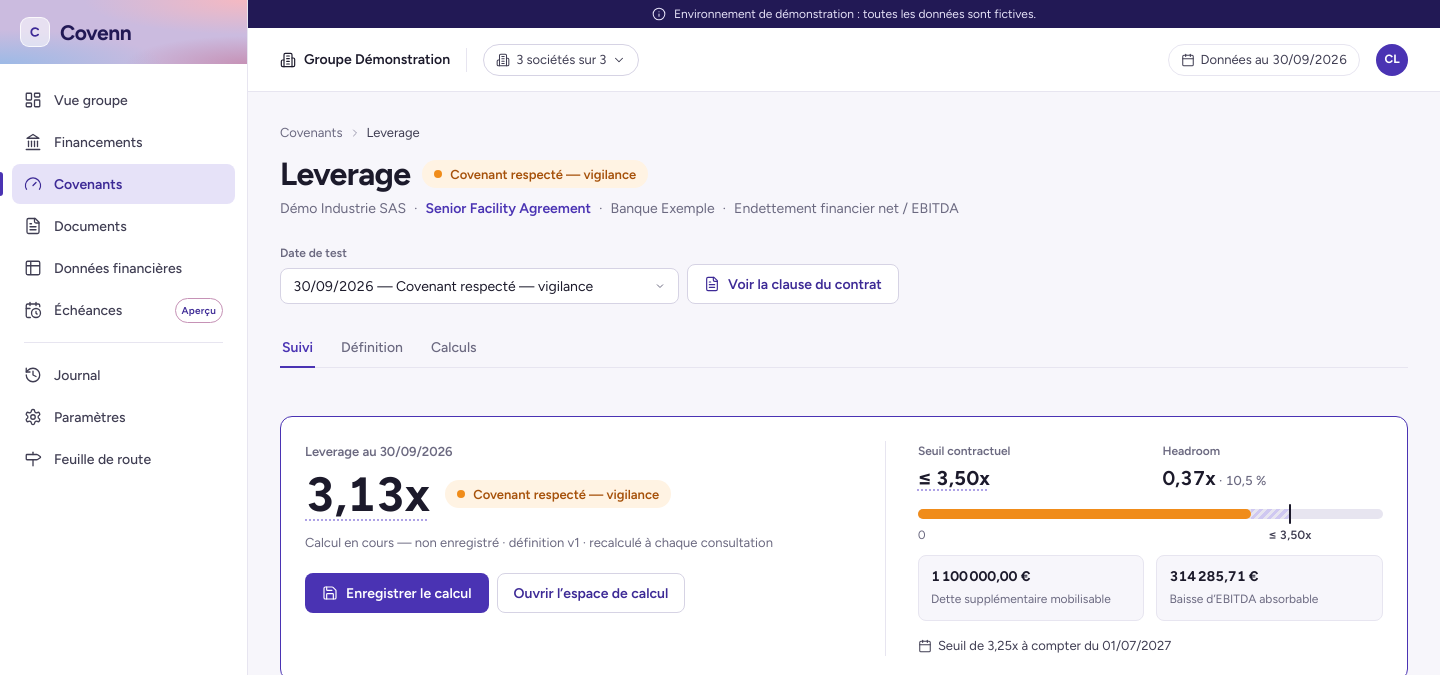
Test: BETA-12 — démonstration répétable dans le même onglet › réinitialisation suivie d’une fermeture immédiate, avant l’écriture différée
The image size is (1440, 675).
Click the button "Enregistrer le calcul" at [397, 593], box [305,573,488,613]
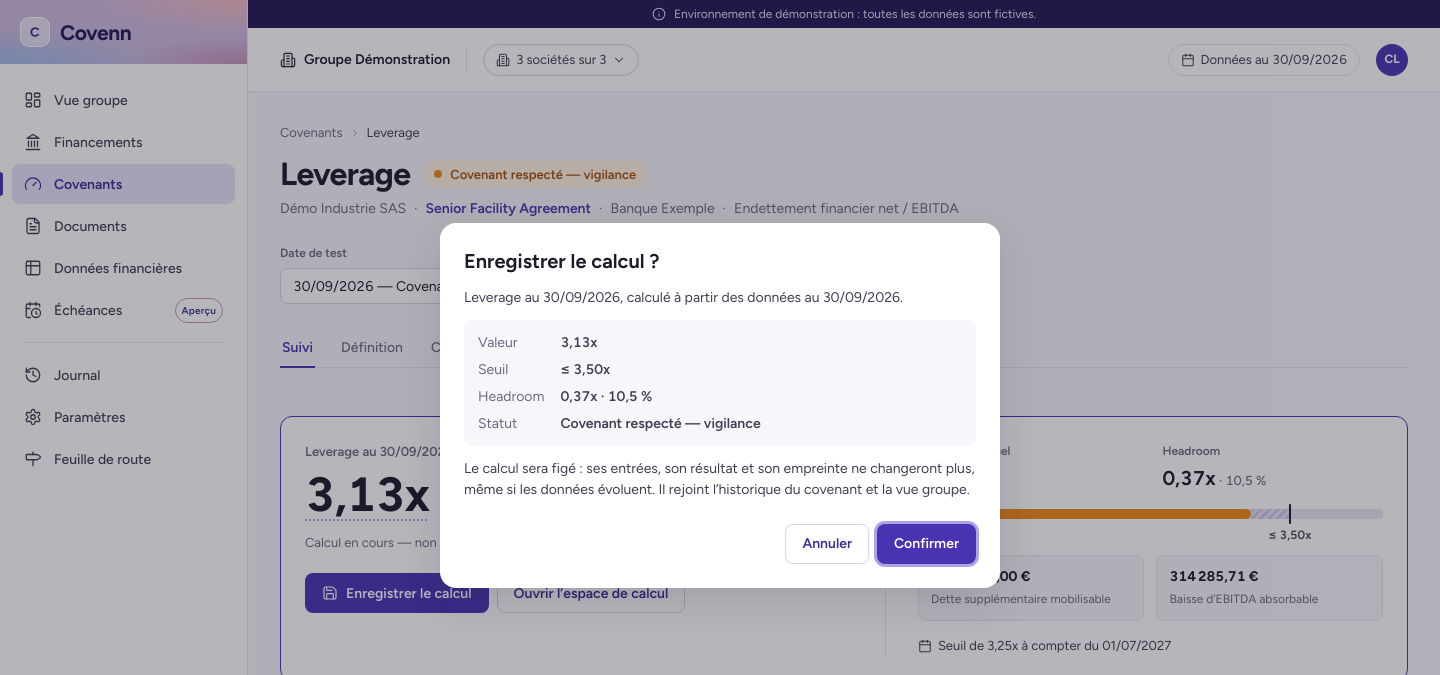
Click the button "Confirmer" at [926, 544], box [877,524,976,564]
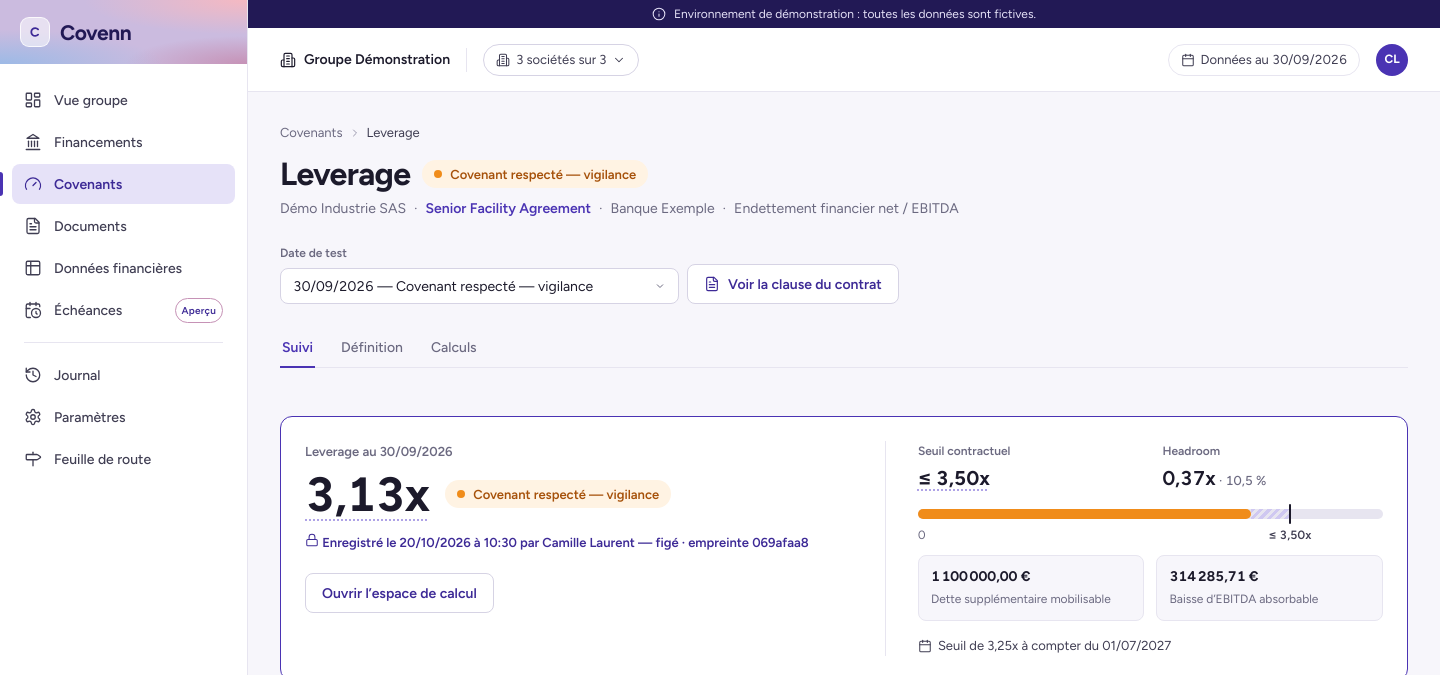
Check: the text "Enregistré le 20/10/2026 à 10:30 par Camille Laurent — figé" is shown, box [305,532,809,553]
Click the link "Paramètres" at [75, 417], box [24,408,126,426]
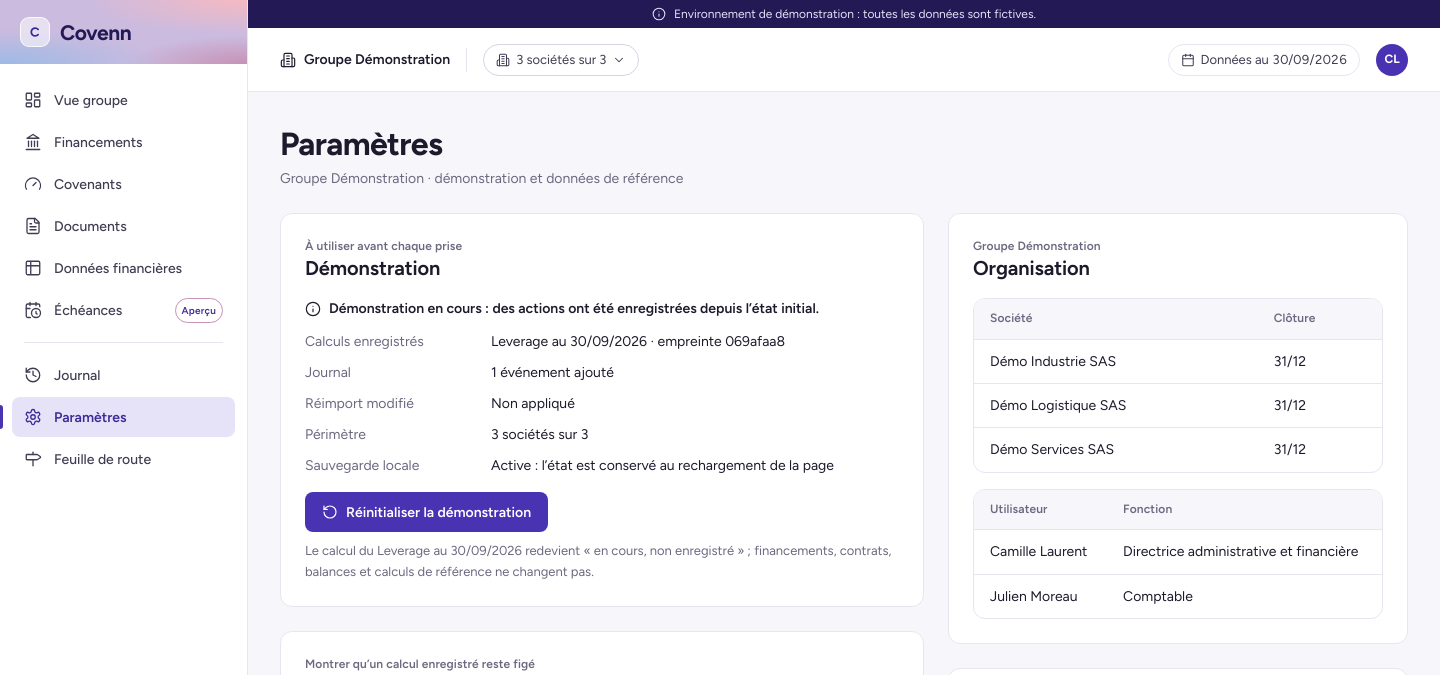
Click the button "Réinitialiser la démonstration" at [426, 512], box [305,492,548,532]
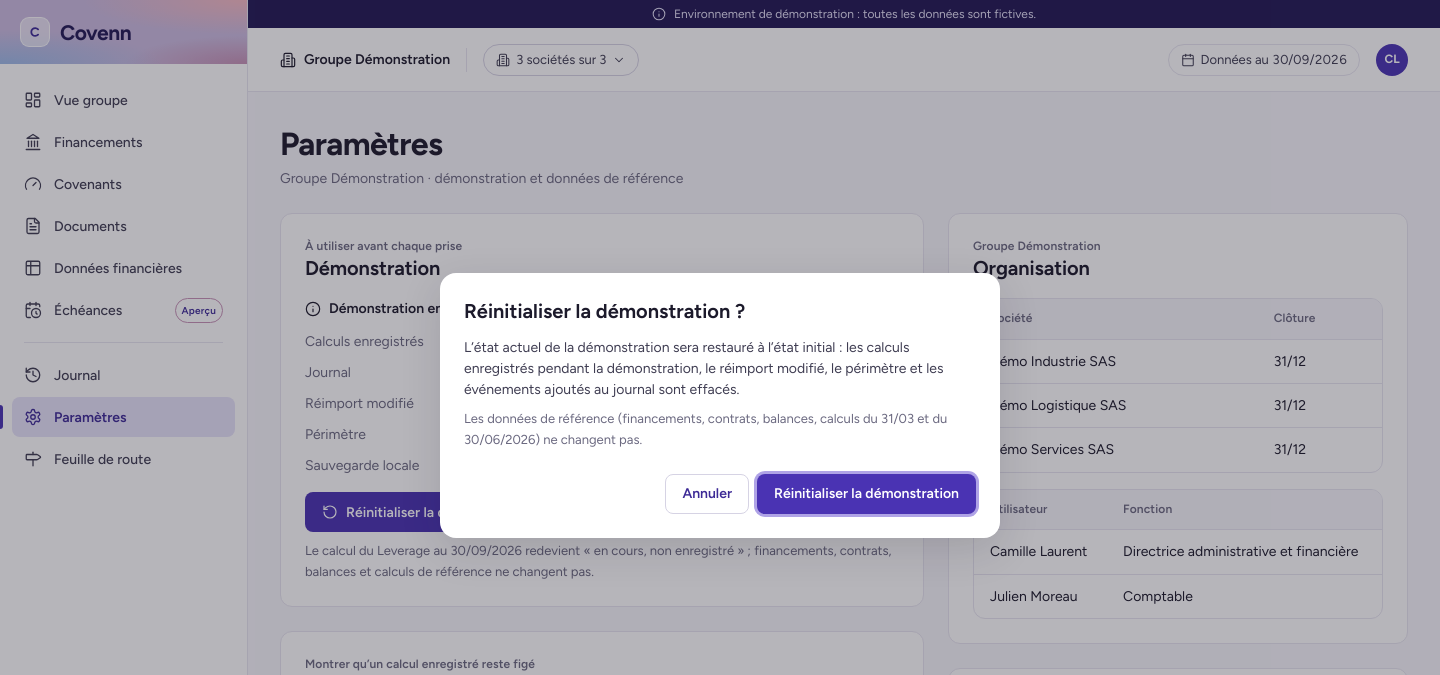
Click the button "Réinitialiser la démonstration" at [866, 494], box [757,474,976,514]
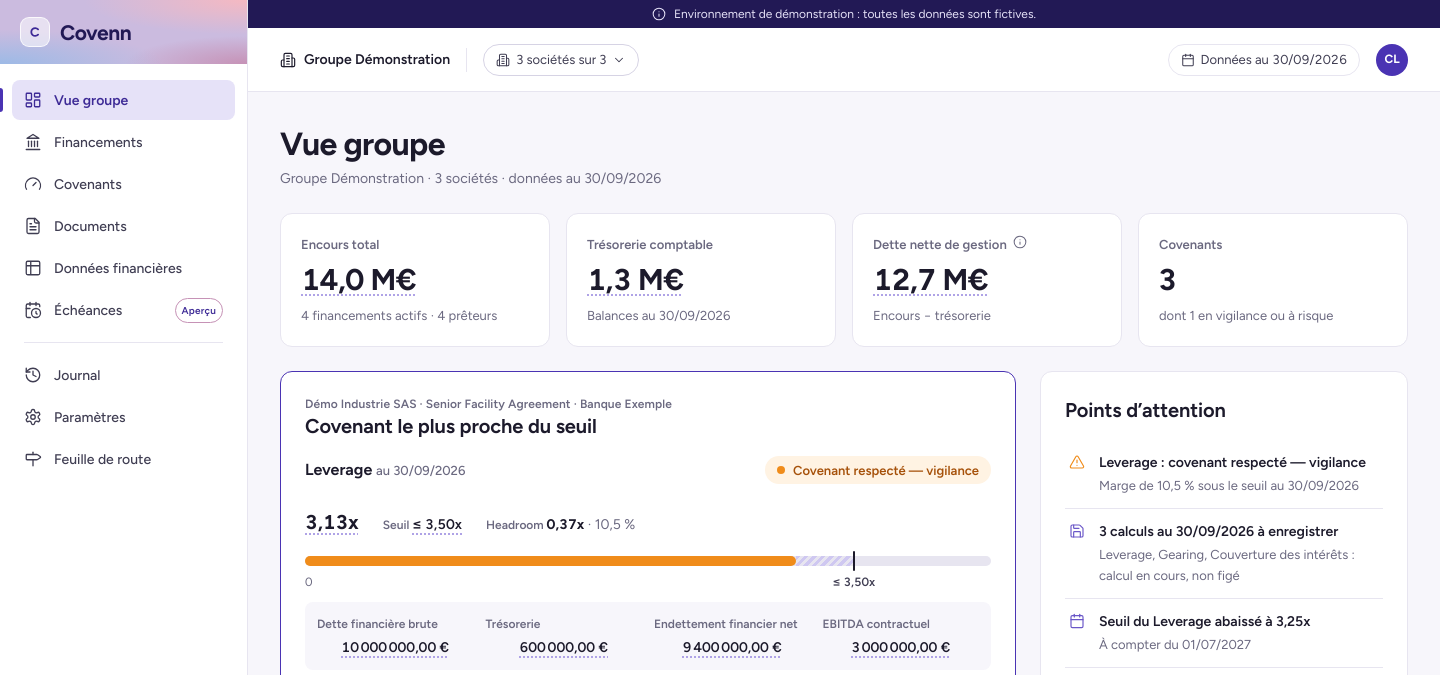
Check: the text "3 calculs au 30/09/2026 à enregistrer" is shown, box [1099,521,1379,542]
